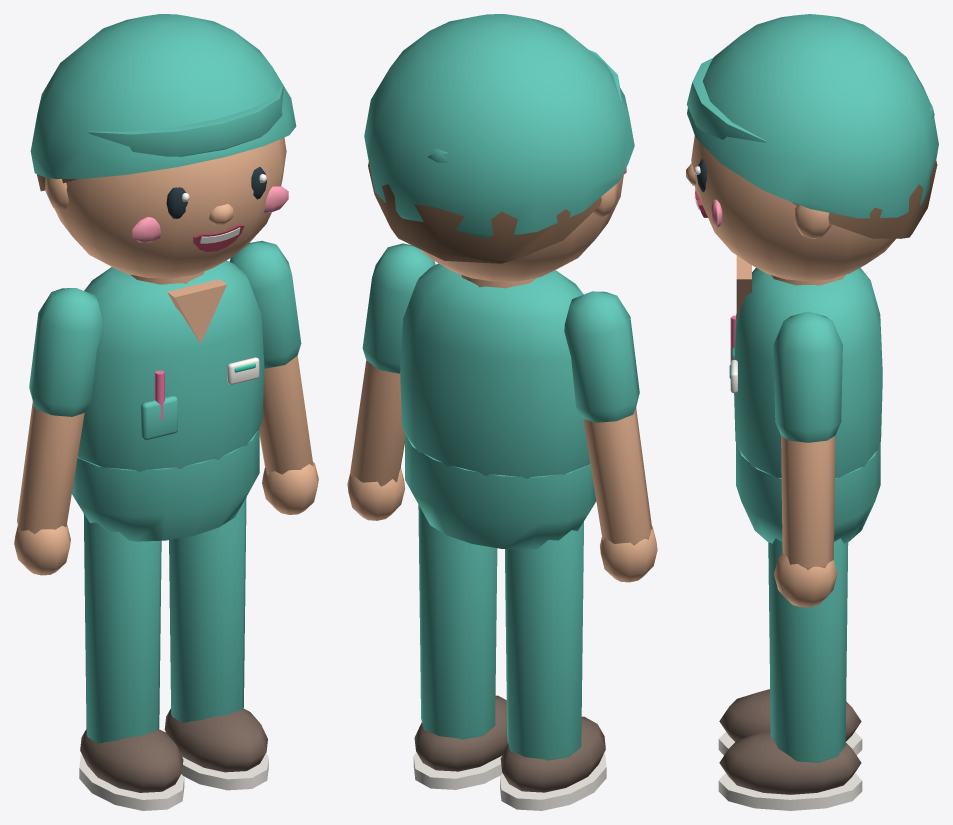
File: char_staff.glb
The picture shows the model from 3 angles, left to right: view 1: azimuth 30°, elevation 25°; view 2: azimuth 150°, elevation 25°; view 3: azimuth 270°, elevation 25°; orthographic projection.
Parts seen in each view (by area): view 1: Head, Body, LegR, LegL, ArmR, ArmL; view 2: Head, Body, LegR, LegL, ArmR, ArmL; view 3: Head, Body, LegL, ArmL, LegR.
Boxes of the visible parts, x1,y1,x2,y2 form: Head: (30,14,296,278); Body: (72,260,264,541); LegR: (79,513,184,810); LegL: (164,497,268,790); ArmR: (14,288,103,575); ArmL: (229,240,318,514); Head: (364,14,634,281); Body: (400,263,596,549); LegR: (500,522,606,810); LegL: (413,504,507,789); ArmR: (564,291,657,582); ArmL: (347,243,435,520); Head: (686,14,938,281); Body: (729,255,882,543); LegL: (718,538,862,810); ArmL: (773,311,842,607); LegR: (718,689,862,755).
Bounding box in the file's own units: 0.6734 × 1.62 × 0.4979.
